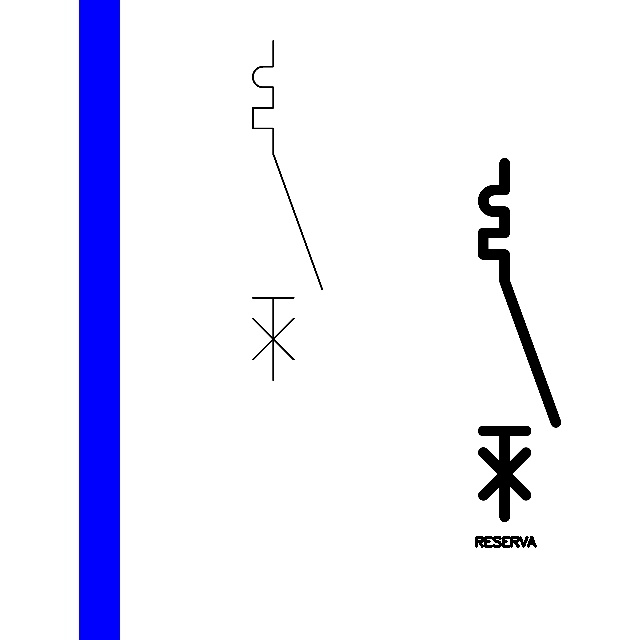interruptor_termomagnetico: (474, 154, 565, 526), (244, 32, 331, 389)
